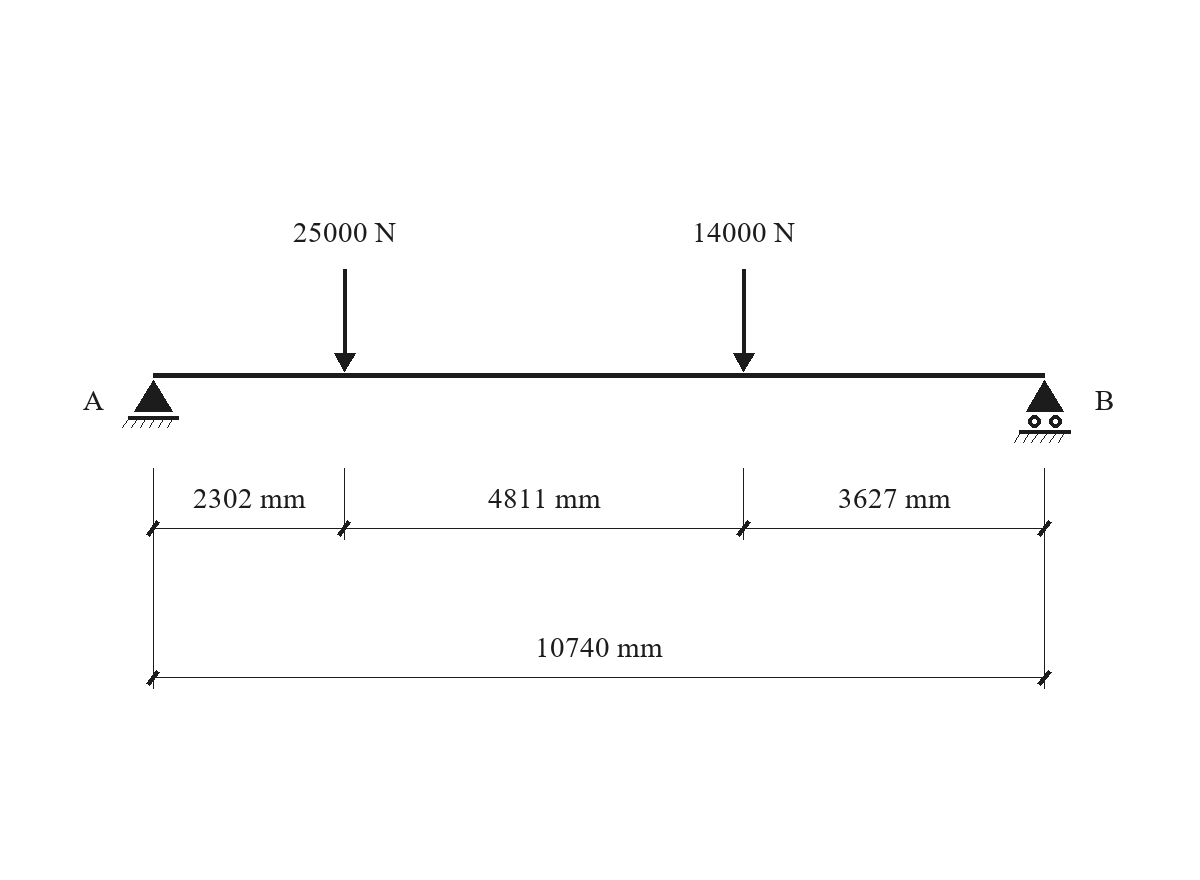pin_support: (122, 380, 179, 428)
point_load: (334, 269, 356, 372), (733, 269, 755, 372)
roller_support: (1014, 380, 1071, 443)
